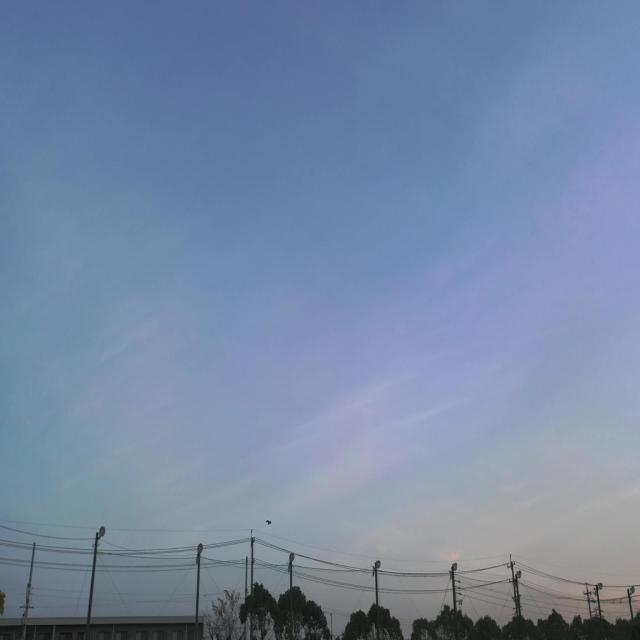Birds: (264, 515, 276, 529)
